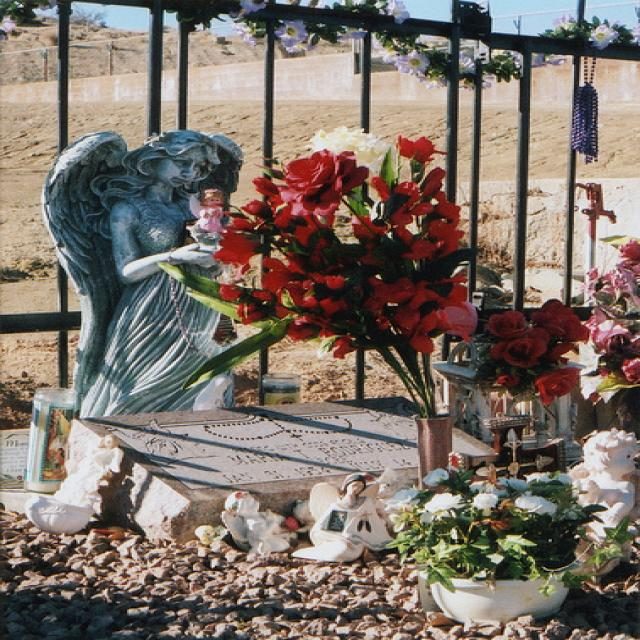pottedplant: (382, 467, 638, 628)
